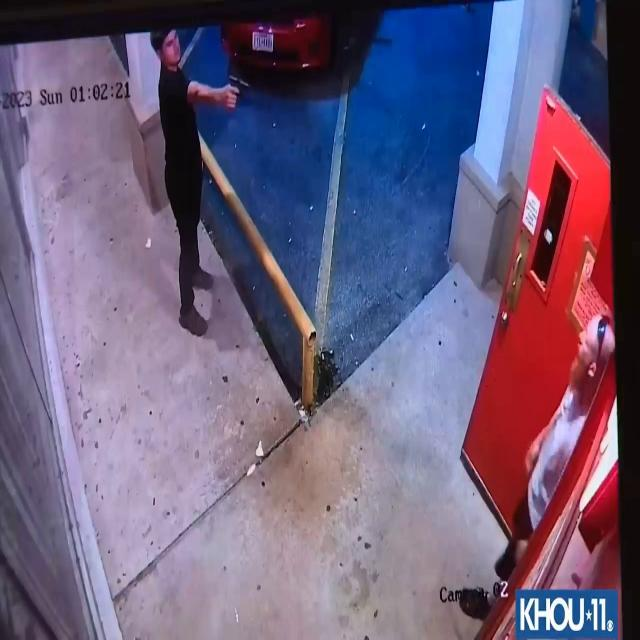penembakan: (148, 29, 249, 337)
